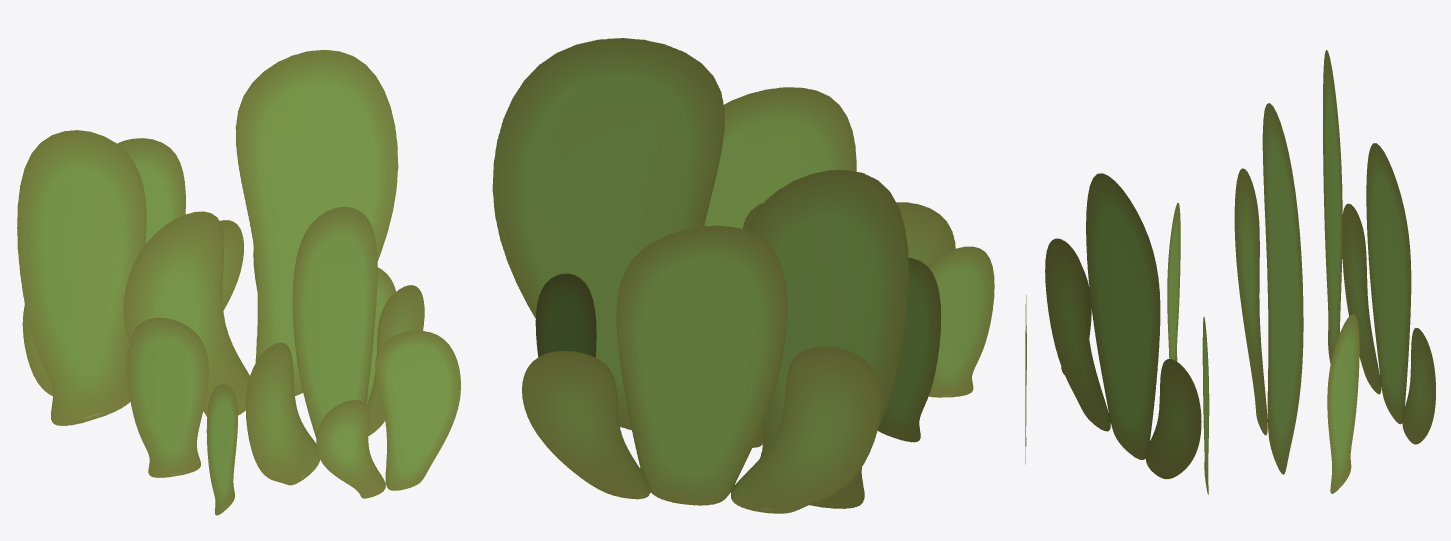
Rendered from mct_foliage_grass04.fbx.
3 views of the same model, side by side, from view 1: azimuth 30°, elevation 25°; view 2: azimuth 150°, elevation 25°; view 3: azimuth 270°, elevation 25° (orthographic). The views are drawn at different scales.
Visible parts, largest first — view 1: mct_foliage_grass_04; view 2: mct_foliage_grass_04; view 3: mct_foliage_grass_04.
Part boxes in pixels (left/top/right/bottom): mct_foliage_grass_04: left=17, top=49, right=460, bottom=515; mct_foliage_grass_04: left=492, top=38, right=994, bottom=513; mct_foliage_grass_04: left=1025, top=50, right=1435, bottom=494.
Bounding box in the file's own units: 107 × 93.53 × 98.05.
